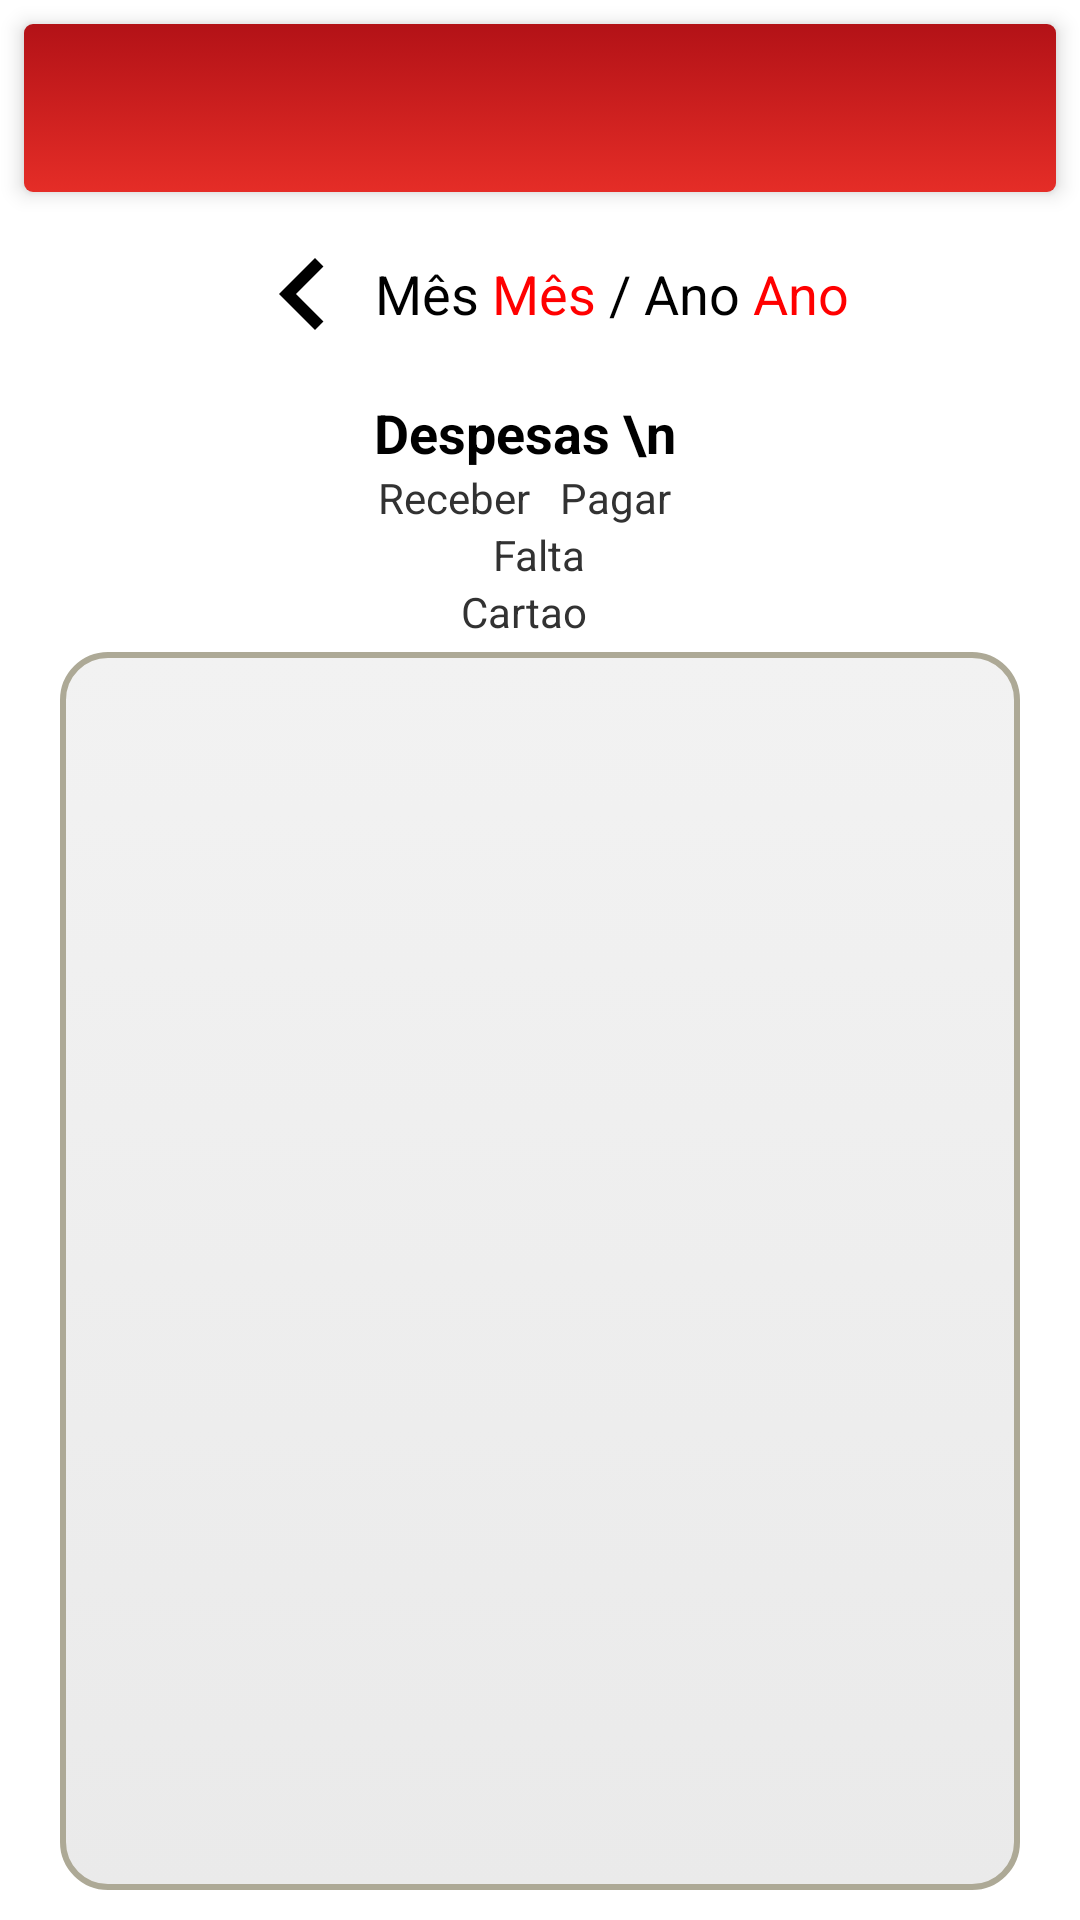

Icons on this 1080×1920 Android screen, each with the point to tap as (x=x, y=y):
voltarblack: (x=301, y=294)
